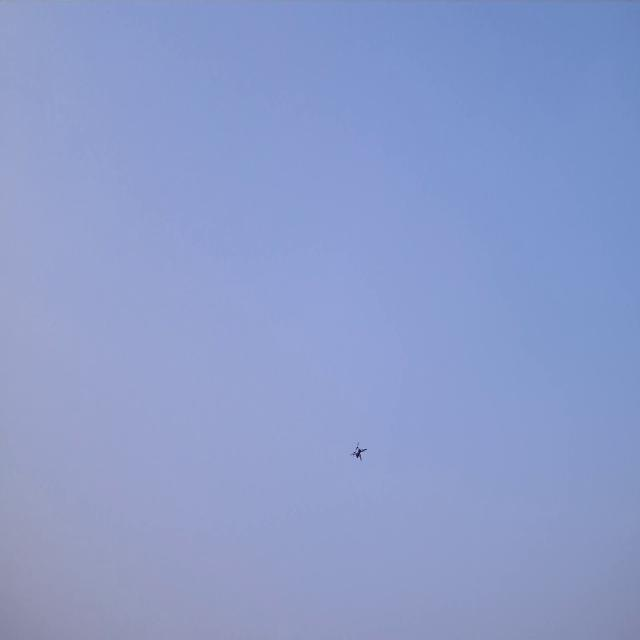UAV: (350, 439, 368, 462)
